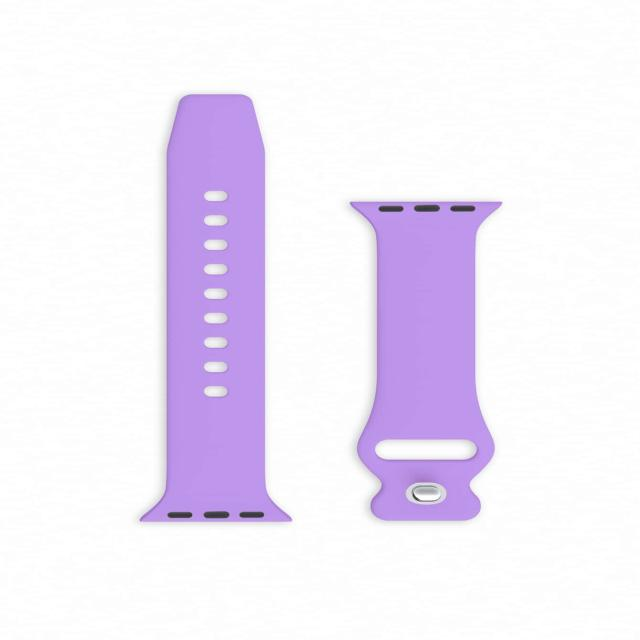bracelet: (92, 40, 348, 542)
